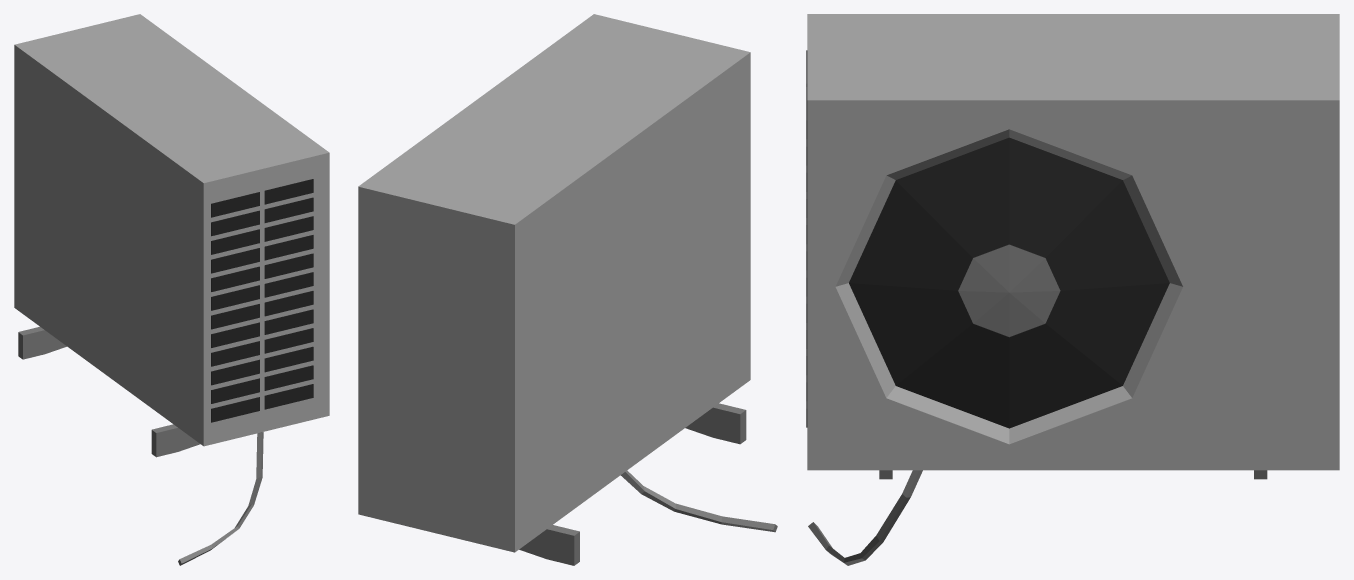
File: air conditioner wall.fbx
3 views of the same model, side by side, from view 1: azimuth 30°, elevation 25°; view 2: azimuth 150°, elevation 25°; view 3: azimuth 270°, elevation 25° (orthographic). The views are drawn at different scales.
Visible parts, largest first — view 1: air conditioner wall; view 2: air conditioner wall; view 3: air conditioner wall.
Boxes of the visible parts, box(x1,y1,x2,y2) form: air conditioner wall: box(14, 14, 329, 565); air conditioner wall: box(358, 14, 777, 565); air conditioner wall: box(806, 14, 1339, 565).
Bounding box in the file's own units: 30.23 × 70.04 × 63.61.
1 material, 1 textured.
